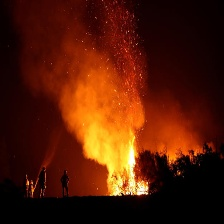fire: (111, 136, 153, 200)
smoke: (10, 4, 216, 149)
